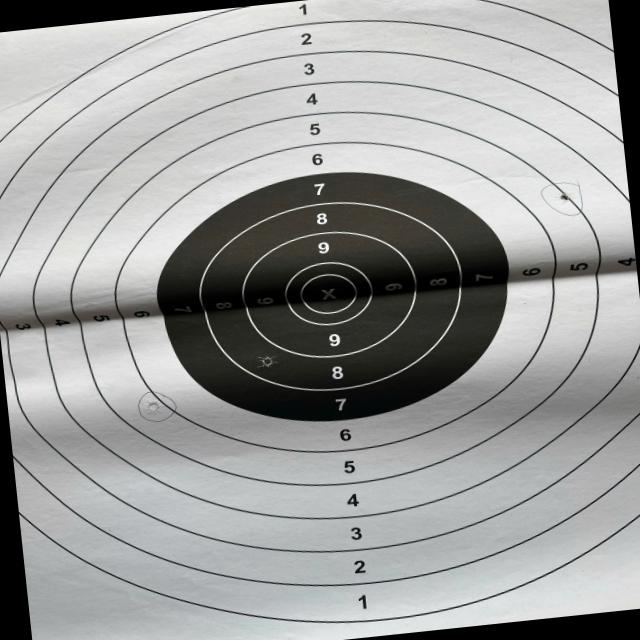bullet: (144, 400, 159, 411), (261, 354, 275, 365), (559, 192, 568, 201)
target: (0, 0, 640, 640)
